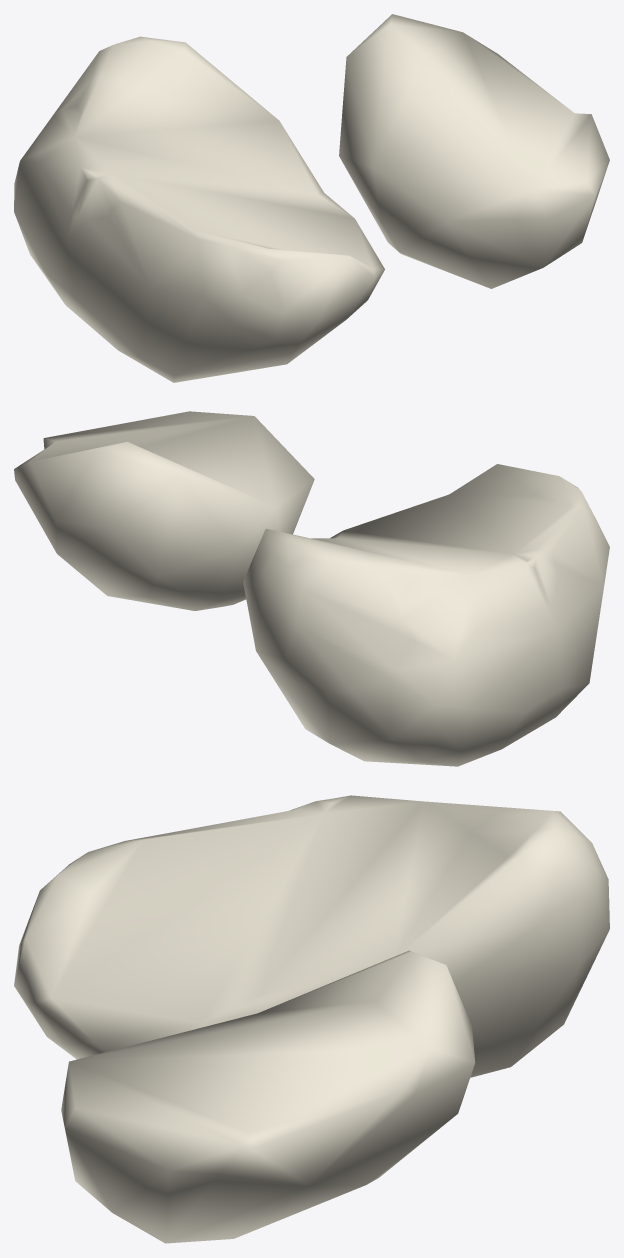
3 renders of one model, top to bottom at view 1: azimuth 30°, elevation 25°; view 2: azimuth 150°, elevation 25°; view 3: azimuth 270°, elevation 25°, orthographic. The views are drawn at different scales.
Parts seen in each view (by area): view 1: ZA_ef3778f7941fc1c5; view 2: ZA_ef3778f7941fc1c5; view 3: ZA_ef3778f7941fc1c5.
Part boxes in pixels (x1=…): ZA_ef3778f7941fc1c5: x1=14, y1=14, x2=609, y2=382; ZA_ef3778f7941fc1c5: x1=14, y1=411, x2=609, y2=766; ZA_ef3778f7941fc1c5: x1=14, y1=795, x2=609, y2=1243.
Bounding box in the file's own units: 0.0174 × 0.00802 × 0.0136.
